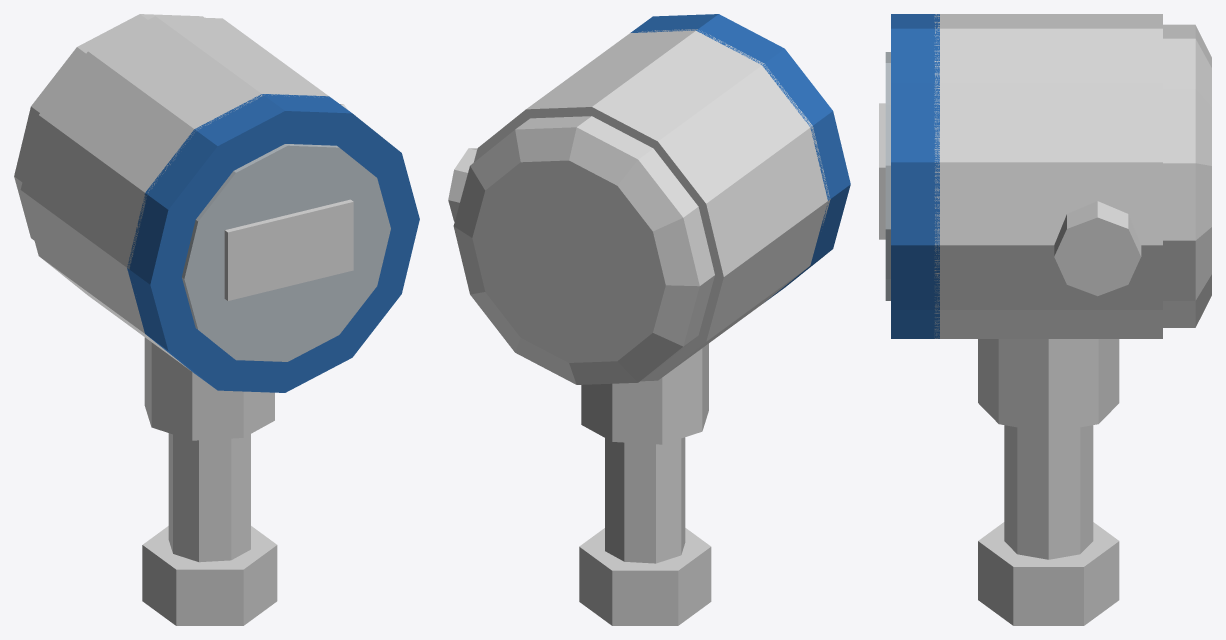
The model's file is transmitter.glb.
3 views of the same model, side by side, from view 1: azimuth 30°, elevation 25°; view 2: azimuth 150°, elevation 25°; view 3: azimuth 270°, elevation 25° (orthographic). The views are drawn at different scales.
Parts seen in each view (by area): view 1: housing, display.bezel, display.face, stem, process.hex, display.window, sensor.neck, rear.cover; view 2: rear.cover, housing, stem, process.hex, display.bezel, sensor.neck, cable.gland; view 3: housing, display.bezel, rear.cover, sensor.neck, stem, process.hex, cable.gland, display.face, display.window.
Part boxes in pixels (x1,y1,x2,y2): housing: (20, 16, 328, 370); display.bezel: (127, 94, 419, 392); display.face: (182, 144, 390, 361); stem: (168, 433, 250, 562); process.hex: (142, 526, 277, 625); display.window: (224, 199, 353, 300); sensor.neck: (144, 337, 274, 440); rear.cover: (14, 14, 203, 240); rear.cover: (453, 116, 714, 384); housing: (473, 29, 830, 381); stem: (605, 437, 685, 563); process.hex: (579, 528, 711, 625); display.bezel: (630, 14, 850, 301); sensor.neck: (581, 343, 708, 444); cable.gland: (448, 148, 477, 221); housing: (934, 14, 1162, 338); display.bezel: (891, 14, 939, 338); rear.cover: (1163, 24, 1211, 327); sensor.neck: (978, 339, 1119, 432); stem: (1004, 425, 1093, 559); process.hex: (978, 522, 1119, 625); cable.gland: (1054, 201, 1141, 296); display.face: (885, 52, 890, 300); display.window: (879, 103, 885, 239).
Bounding box in the file's own units: 0.325 × 0.58 × 0.306.
